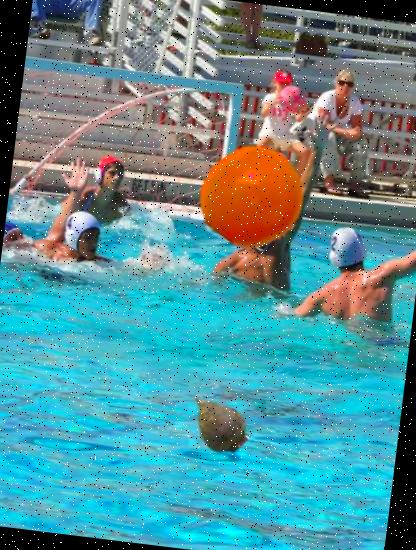Beetroot: (176, 382, 257, 463)
Physalis: (196, 139, 311, 254)
